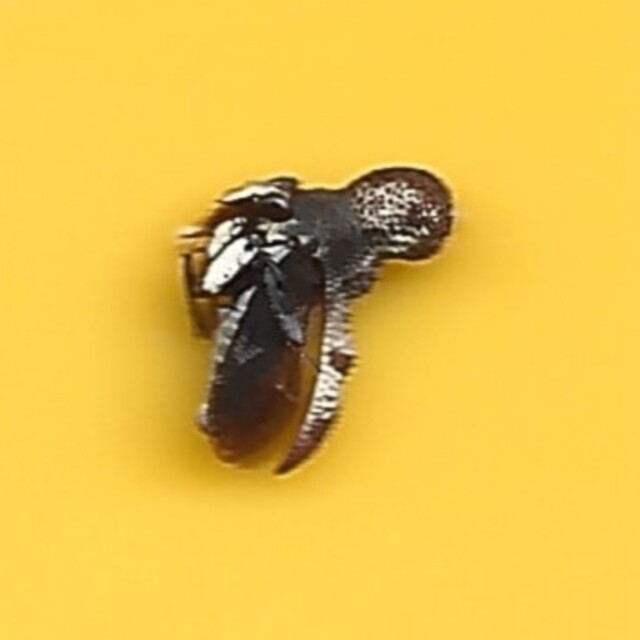Hemiptera: (182, 166, 458, 474)
